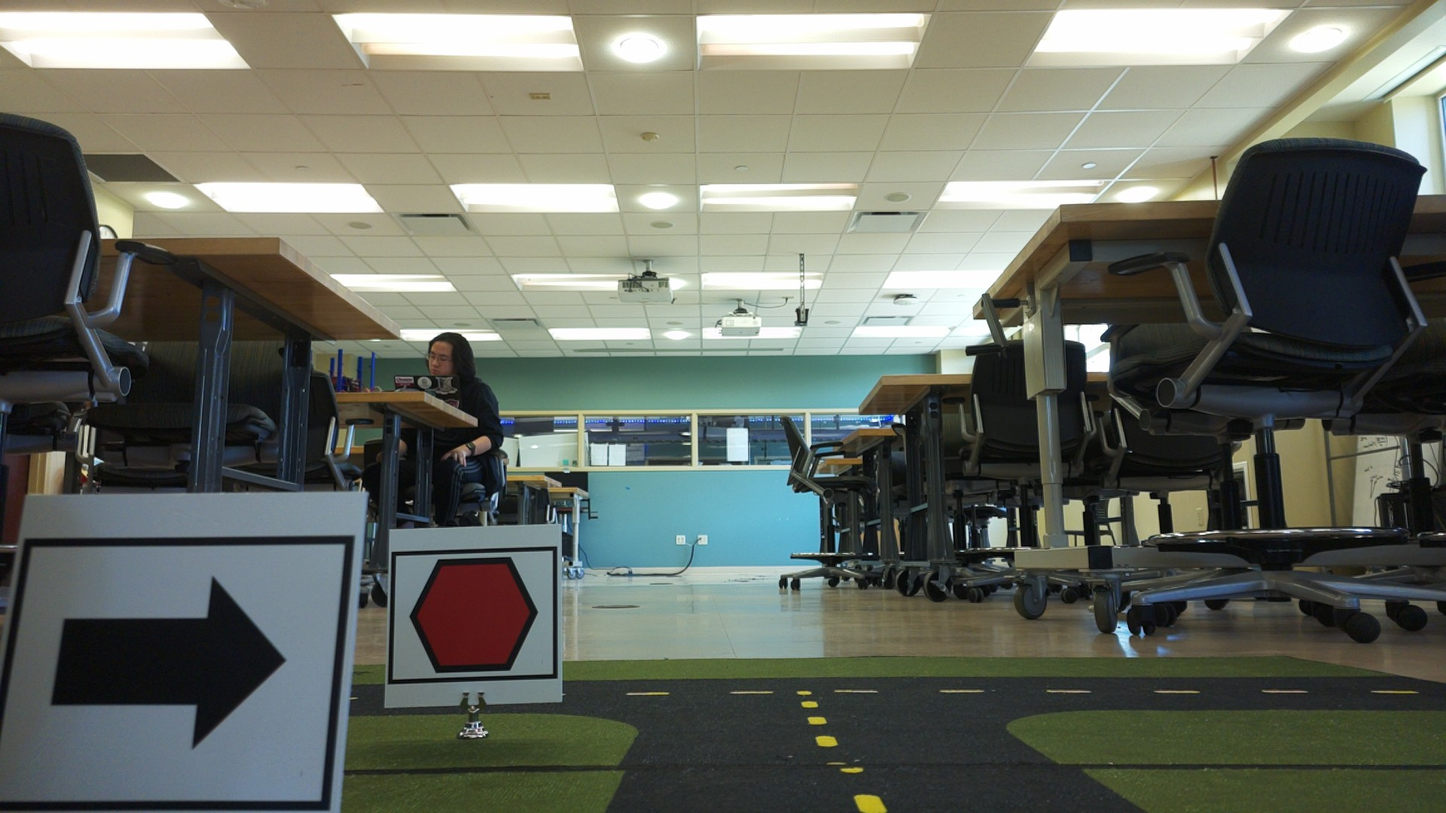stop: (392, 554, 559, 678)
turnright: (18, 543, 340, 808)
yellowline: (804, 699, 883, 813)
